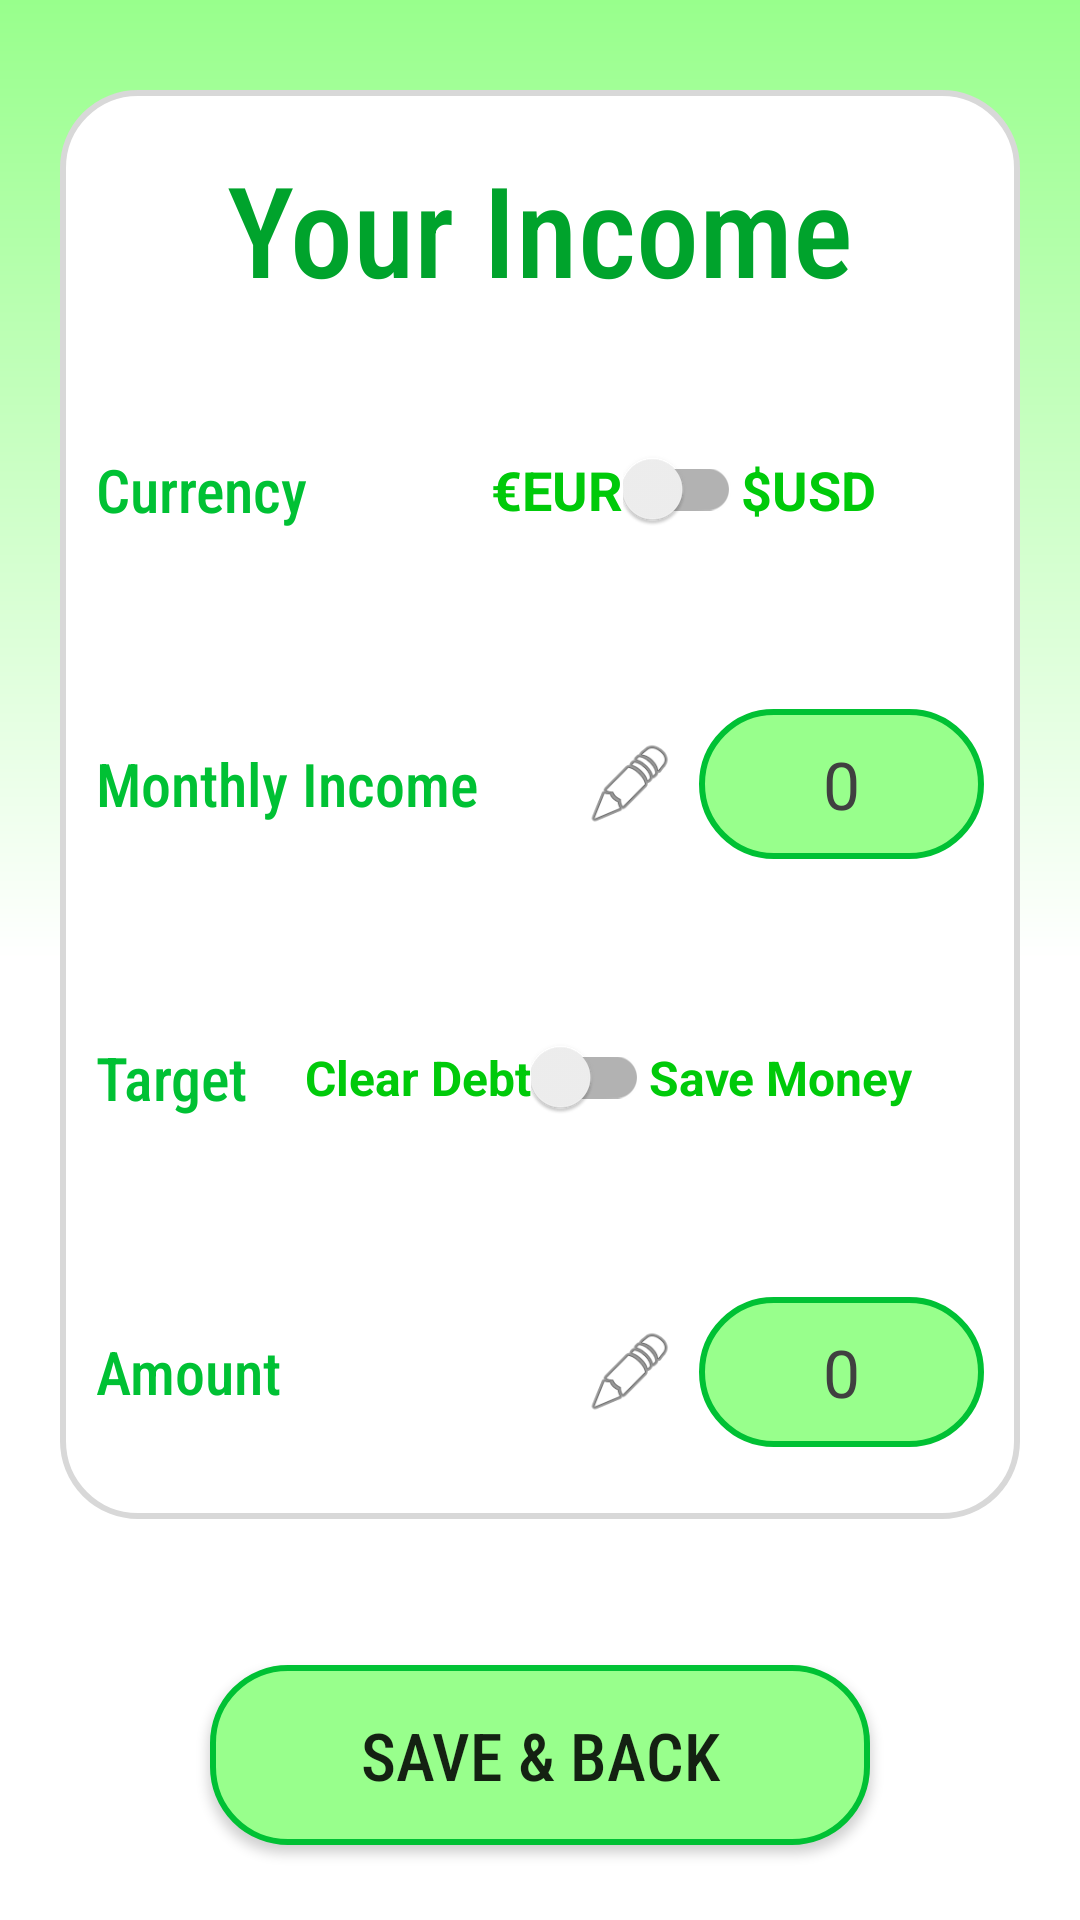

Named icons in this screenshot (1080x1920) and their centers, point (x, y):
edit: point (629, 783), point (629, 1371)
